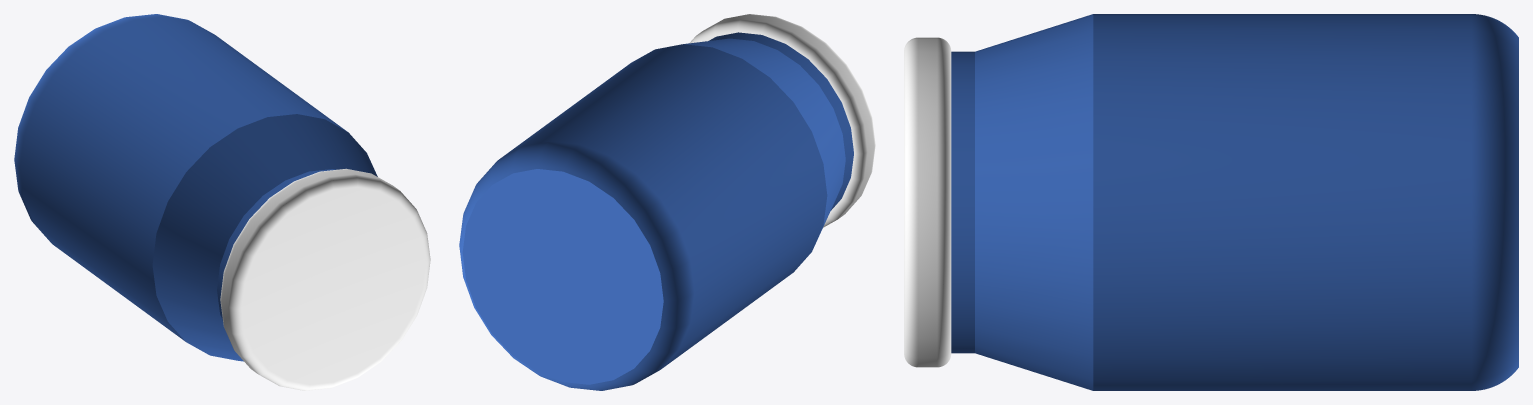
The model's file is model_scale.obj.
The picture shows the model from 3 angles, left to right: view 1: azimuth 30°, elevation 25°; view 2: azimuth 150°, elevation 25°; view 3: azimuth 270°, elevation 25°; orthographic projection. The views are drawn at different scales.
Parts seen in each view (by area): view 1: mesh2_mesh2-geometry, mesh1_mesh1-geometry; view 2: mesh2_mesh2-geometry, mesh1_mesh1-geometry; view 3: mesh2_mesh2-geometry, mesh1_mesh1-geometry.
Boxes of the visible parts, box(x1,y1,x2,y2) form: mesh2_mesh2-geometry: box(14, 14, 377, 361); mesh1_mesh1-geometry: box(220, 168, 430, 390); mesh2_mesh2-geometry: box(459, 32, 853, 390); mesh1_mesh1-geometry: box(689, 14, 875, 227); mesh2_mesh2-geometry: box(951, 14, 1518, 390); mesh1_mesh1-geometry: box(904, 37, 951, 367).
Size of the model in its own units: 0.1031 by 0.1031 by 0.1675.
